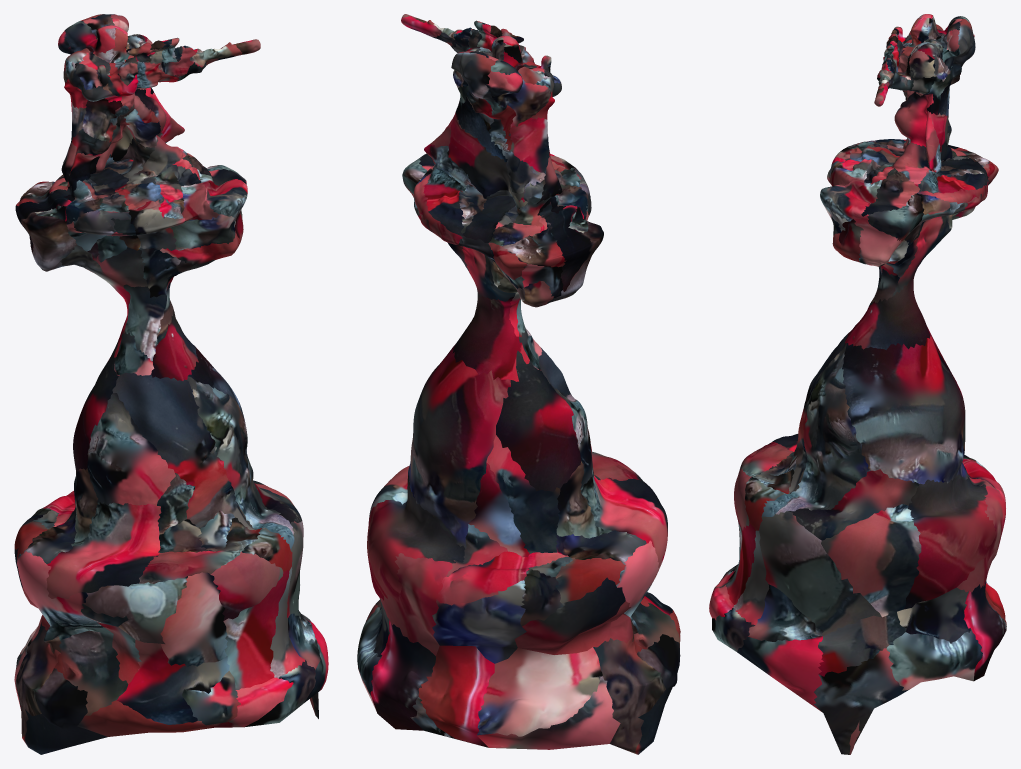
Rendered from 3DModel.obj.
3 renders of one model, left to right at view 1: azimuth 30°, elevation 25°; view 2: azimuth 150°, elevation 25°; view 3: azimuth 270°, elevation 25°, orthographic. The views are drawn at different scales.
Visible parts, largest first — view 1: 3DModel; view 2: 3DModel; view 3: 3DModel.
Part boxes in pixels (<box>): 3DModel: <box>14,14,328,754</box>; 3DModel: <box>357,14,680,754</box>; 3DModel: <box>709,14,1006,754</box>.
Bounding box in the file's own units: 0.5601 × 1.35 × 0.5508.
